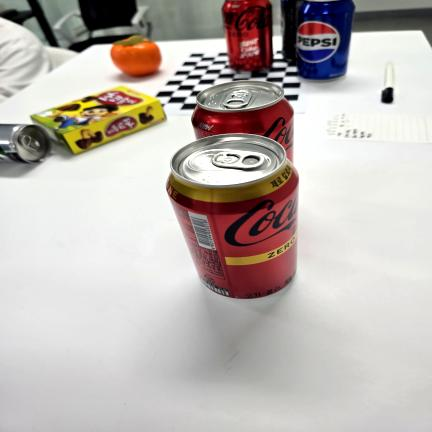can_coke_decaf: (160, 135, 297, 304)
can_coke_zero: (194, 78, 293, 161), (222, 0, 274, 69)
can_pepsi: (292, 2, 351, 81)
